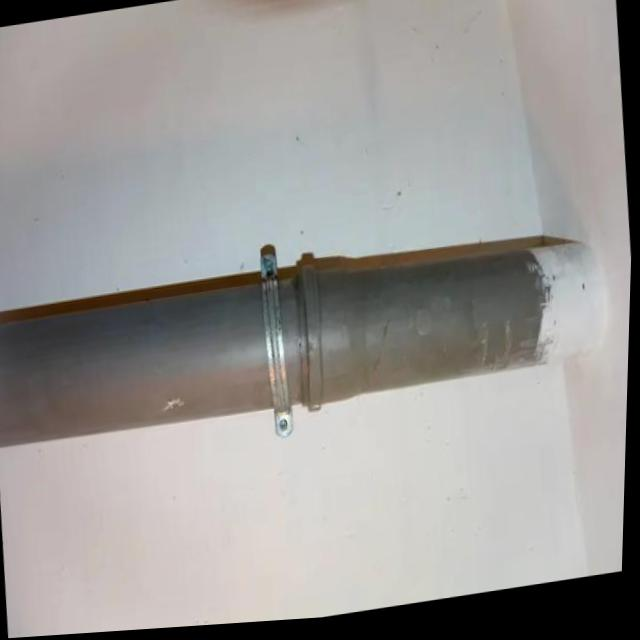leak: (297, 266, 324, 411)
